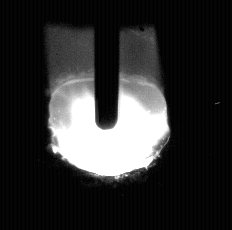arame: (96, 0, 121, 130)
poca: (49, 0, 171, 230)
